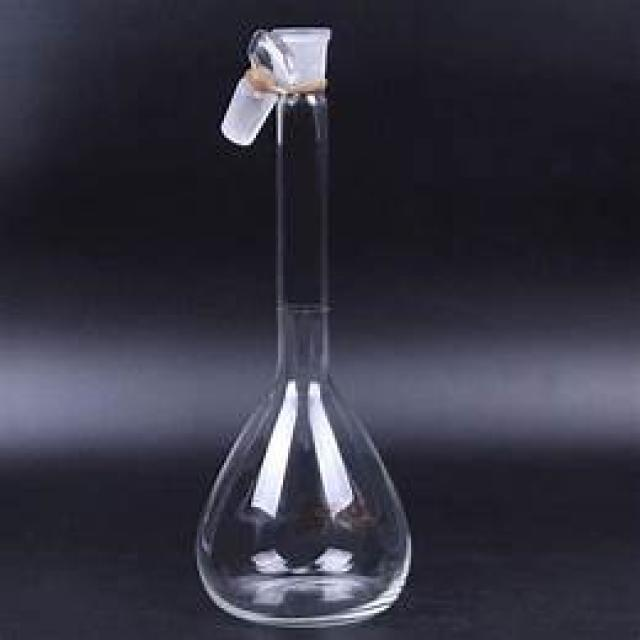Volumetric flask: (182, 14, 423, 624)
